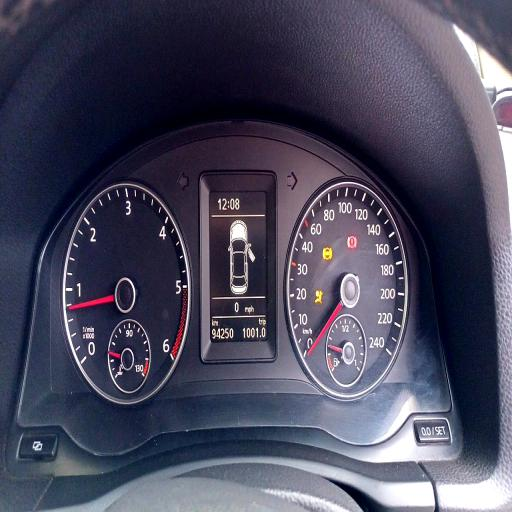brake_system_fault: (347, 236, 357, 249)
tachometer: (62, 182, 193, 405)
